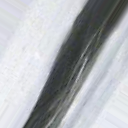crackTip: (18, 1, 128, 126)
